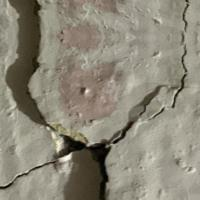crack: (10, 3, 190, 199)
